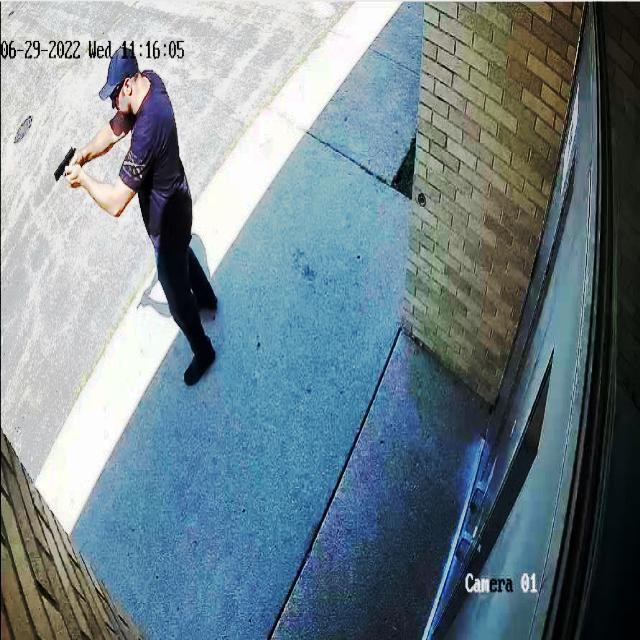Gun: (48, 135, 90, 183)
